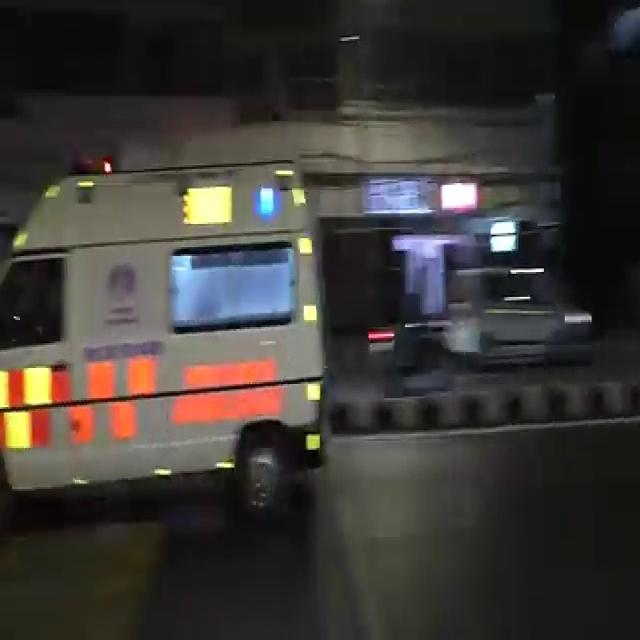ambulance: (8, 168, 328, 512)
